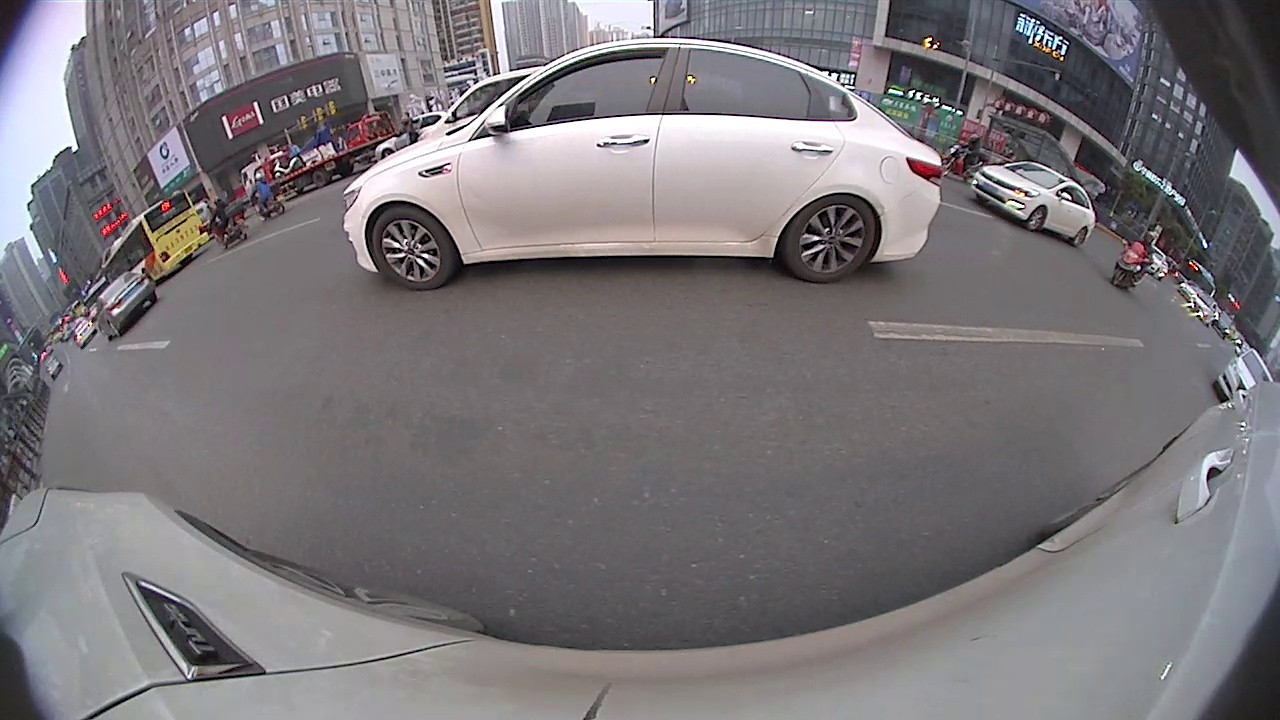bus: (99, 188, 208, 293)
car: (346, 34, 942, 292), (973, 164, 1099, 248), (88, 266, 159, 341), (1217, 348, 1279, 406)
front: (369, 203, 457, 291), (1024, 204, 1047, 233)
rear: (778, 193, 878, 287), (1071, 226, 1089, 250)
rider: (1112, 231, 1159, 292), (207, 194, 250, 252)
